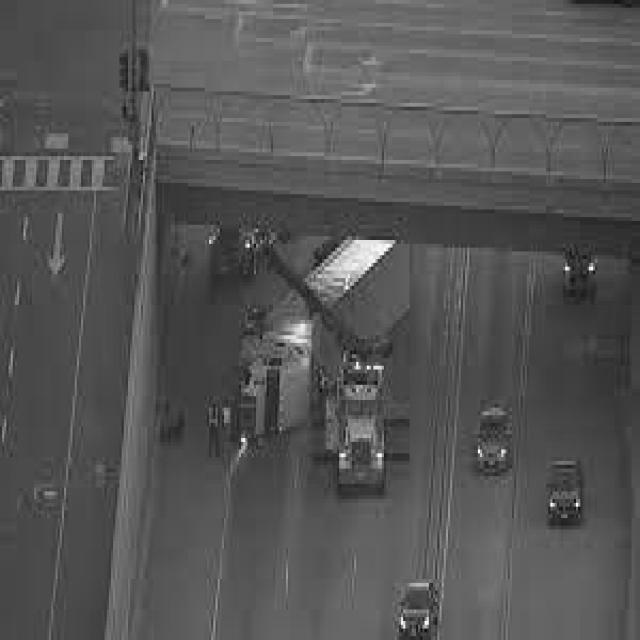accident: (232, 219, 417, 448)
vehicle: (470, 399, 519, 479), (545, 458, 587, 532), (393, 583, 441, 640), (560, 252, 602, 305)
